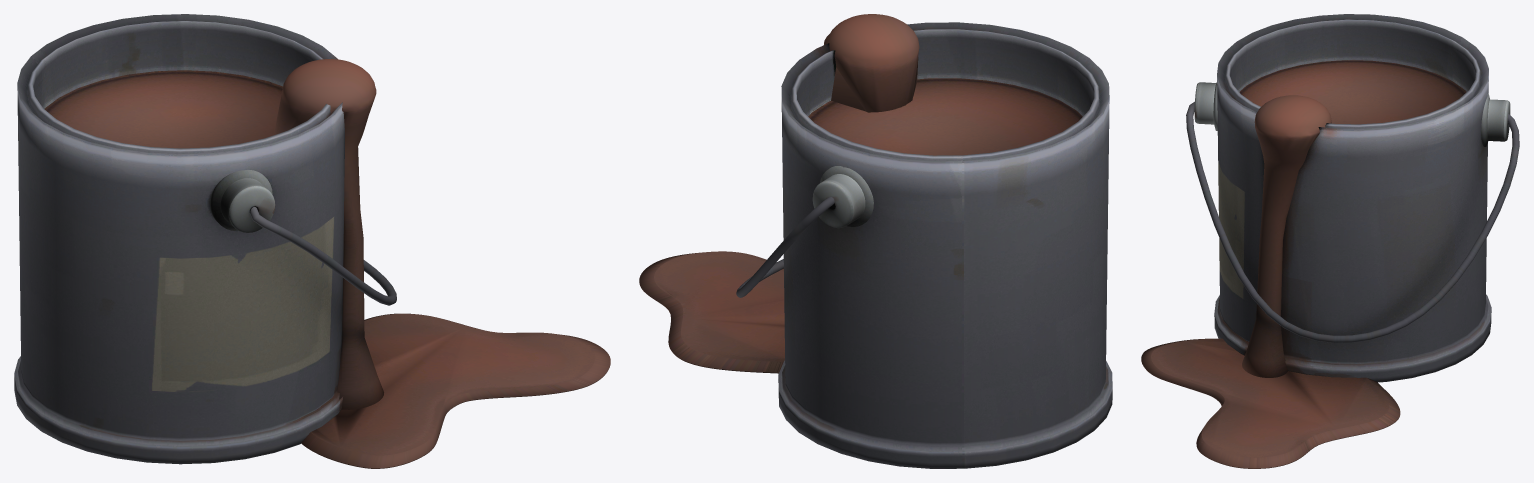
The model's file is tf2_paint_can.glb.
The picture shows the model from 3 angles, left to right: view 1: azimuth 30°, elevation 25°; view 2: azimuth 150°, elevation 25°; view 3: azimuth 270°, elevation 25°; orthographic projection. The views are drawn at different scales.
Visible parts, largest first — view 1: Pot_0; view 2: Pot_0; view 3: Pot_0.
Part boxes in pixels (x1,y1,x2,y2): Pot_0: (14,14,610,468); Pot_0: (639,14,1112,468); Pot_0: (1141,14,1519,468).
Bounding box in the file's own units: 3.54 × 2.19 × 2.8.
1 material, 1 textured.
